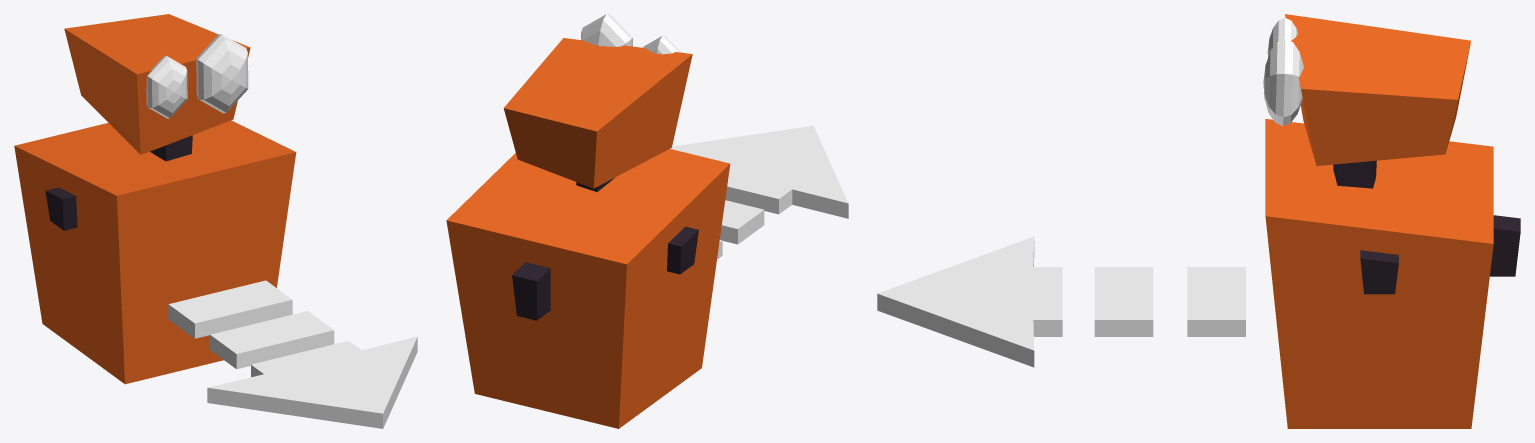
Rendered from MoveCardPreview.fbx.
3 views of the same model, side by side, from view 1: azimuth 30°, elevation 25°; view 2: azimuth 150°, elevation 25°; view 3: azimuth 270°, elevation 25° (orthographic). The views are drawn at different scales.
Visible parts, largest first — view 1: Cube, Cube.001, Cube.008, Cube.006, Cube.007, Sphere, Sphere.001, Cube.004, Cube.002; view 2: Cube, Cube.001, Cube.008, Cube.003, Cube.007, Sphere, Cube.004, Sphere.001; view 3: Cube, Cube.001, Cube.008, Cube.007, Cube.006, Sphere, Cube.003, Cube.005, Cube.002.
Part boxes in pixels (x1,y1,x2,y2): Cube: (14, 120, 296, 384); Cube.001: (64, 14, 250, 154); Cube.008: (207, 336, 417, 428); Cube.006: (168, 280, 292, 338); Cube.007: (210, 311, 334, 369); Sphere: (196, 34, 248, 113); Sphere.001: (146, 56, 187, 118); Cube.004: (45, 187, 77, 230); Cube.002: (150, 135, 192, 161); Cube: (446, 149, 730, 428); Cube.001: (503, 38, 692, 188); Cube.008: (670, 125, 848, 218); Cube.003: (512, 262, 550, 320); Cube.007: (720, 200, 764, 244); Sphere: (581, 14, 632, 46); Cube.004: (667, 226, 698, 274); Sphere.001: (643, 35, 681, 54); Cube: (1265, 119, 1493, 428); Cube.001: (1285, 14, 1470, 165); Cube.008: (877, 236, 1062, 367); Cube.007: (1094, 267, 1153, 336); Cube.006: (1187, 267, 1245, 336); Sphere: (1263, 39, 1303, 125); Cube.003: (1490, 215, 1520, 276); Cube.005: (1360, 250, 1398, 294); Cube.002: (1333, 160, 1376, 188).
Size of the model in its own units: 117 by 175 by 279.
